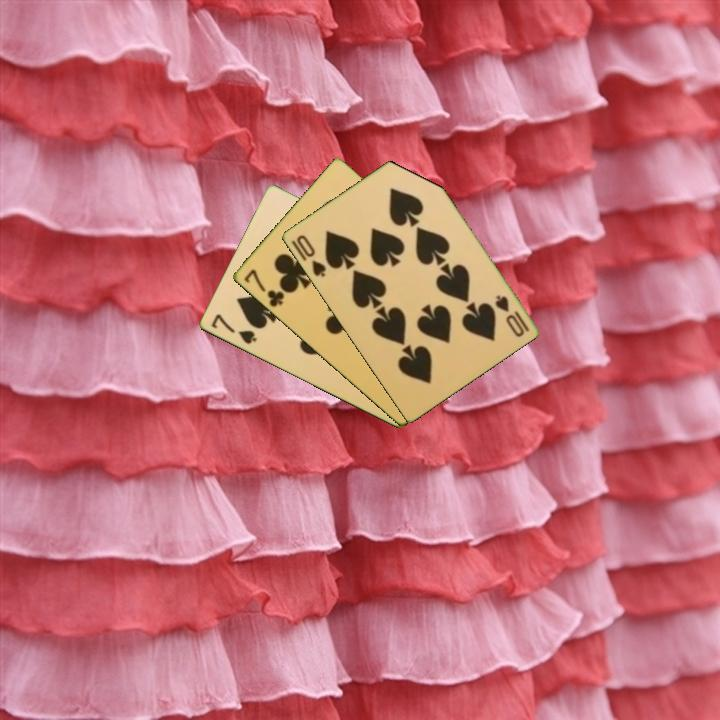10s: (491, 291, 532, 340), (293, 231, 329, 280)
7c: (240, 265, 287, 310)
7s: (207, 310, 259, 347)
